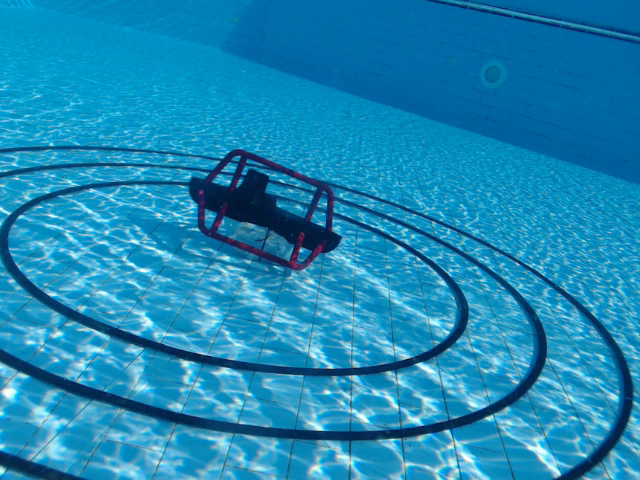submarine: (186, 146, 343, 274)
